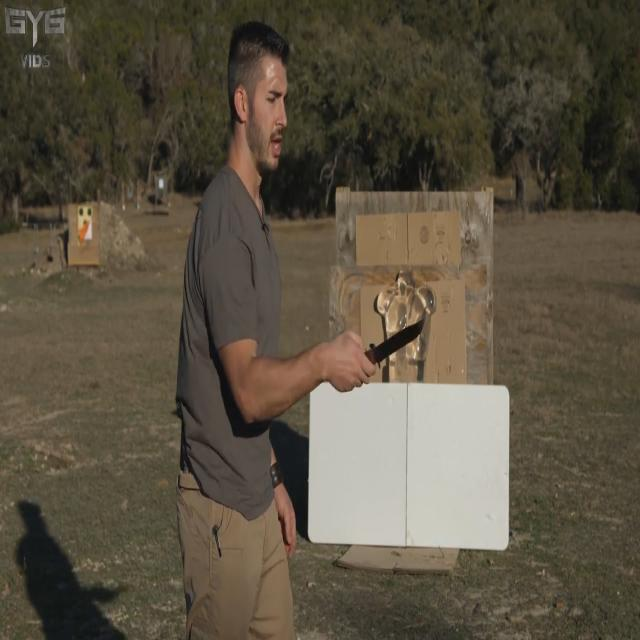knife: (365, 316, 428, 370)
